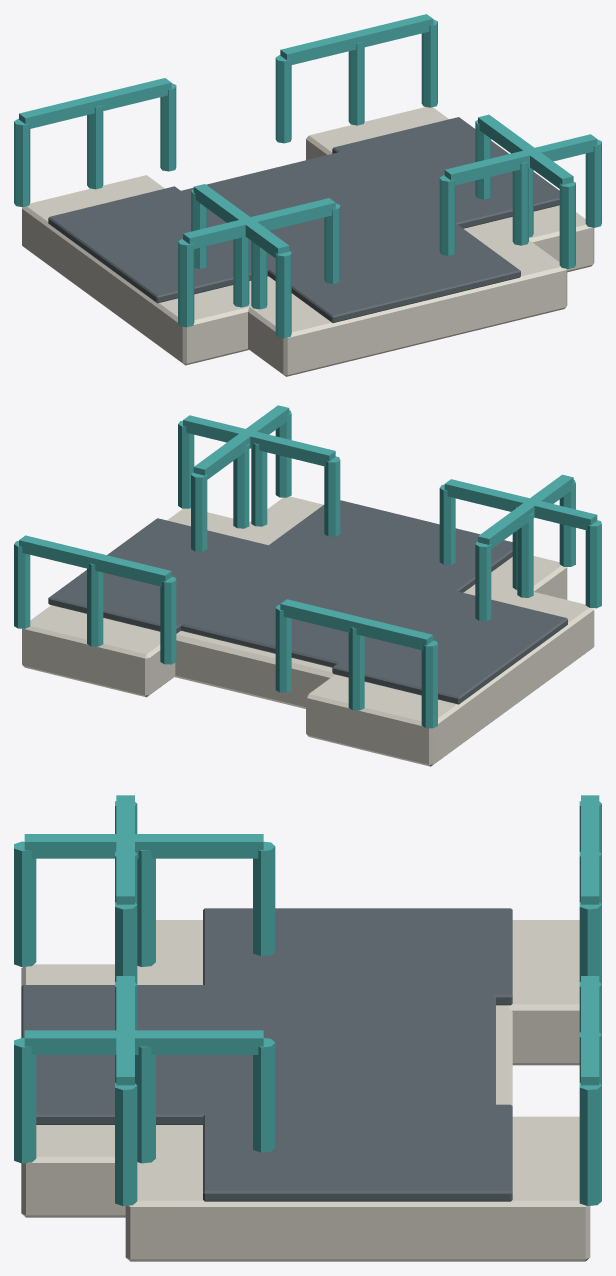
File: BRG_LOCAL_DECK_1x1_T.glb
3 views of the same model, one above another, from view 1: azimuth 30°, elevation 25°; view 2: azimuth 150°, elevation 25°; view 3: azimuth 270°, elevation 25° (orthographic). The views are drawn at different scales.
Visible parts, largest first — view 1: BRG_LOCAL_DECK_1x1_T_Visual; view 2: BRG_LOCAL_DECK_1x1_T_Visual; view 3: BRG_LOCAL_DECK_1x1_T_Visual.
Part boxes in pixels (<box>): BRG_LOCAL_DECK_1x1_T_Visual: <box>14,14,601,376</box>; BRG_LOCAL_DECK_1x1_T_Visual: <box>14,405,601,766</box>; BRG_LOCAL_DECK_1x1_T_Visual: <box>14,795,601,1261</box>.
Size of what is drawn, in the model's own units: 2.05 by 0.6075 by 1.75.
